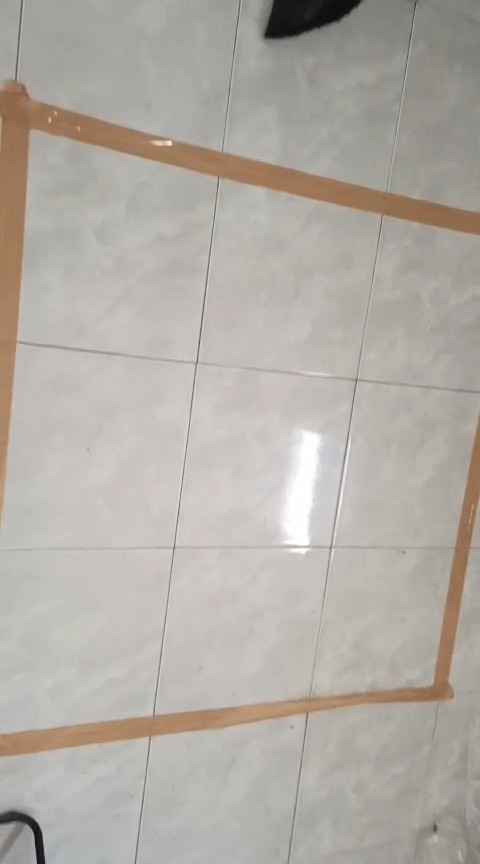floor marking: (0, 81, 479, 521), (0, 418, 479, 754)
